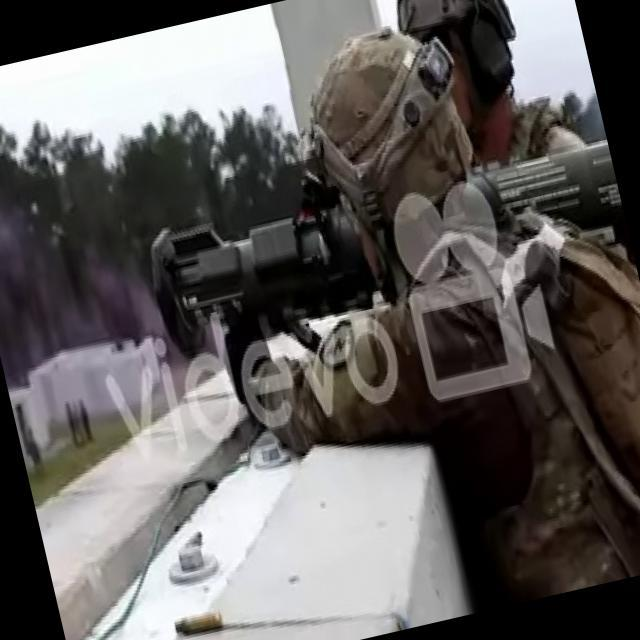rocket: (144, 128, 632, 354)
